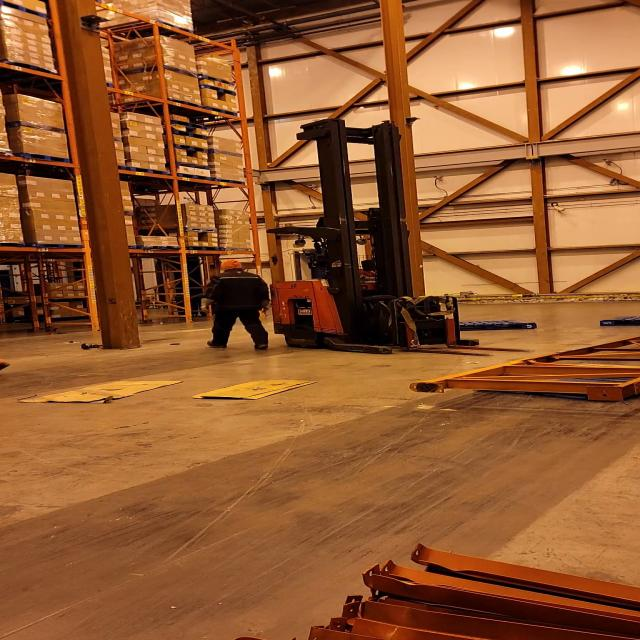forklift: (266, 127, 486, 356)
human: (188, 254, 281, 353)
objectofinterest: (407, 333, 640, 405), (17, 379, 183, 404), (189, 377, 315, 404), (440, 315, 541, 333), (596, 314, 640, 328)
